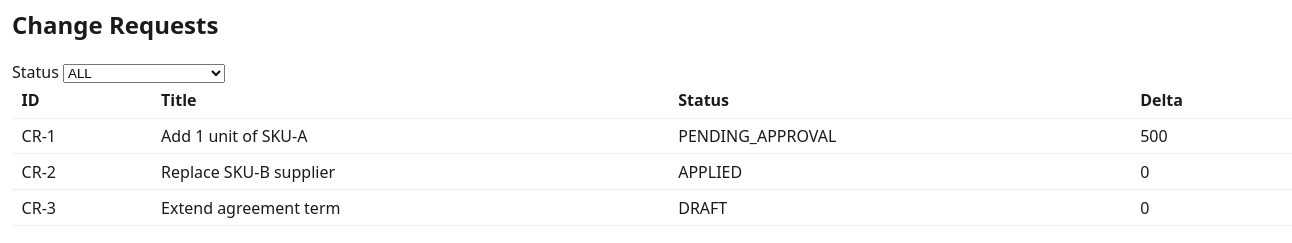
Test: CrListComponent › filters the list by status
Step 1. Select "PENDING_APPROVAL" in the dropdown with class "cr-list__filter" → (144, 73), box 63,64 -> 225,83
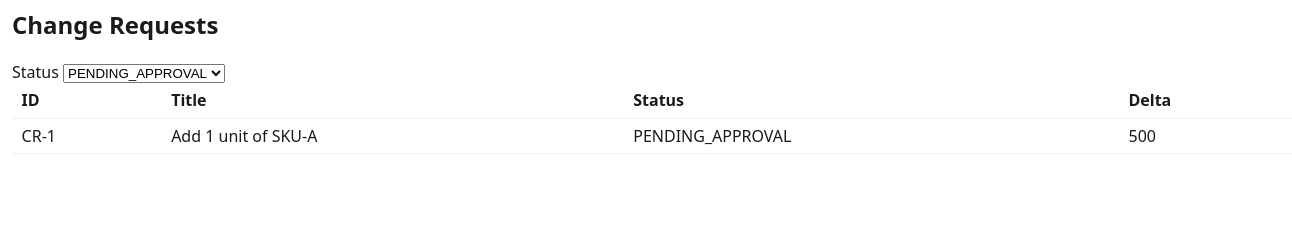
Check: the number of rows with class "cr-list__row" is 1, box 12,118 -> 1291,154
